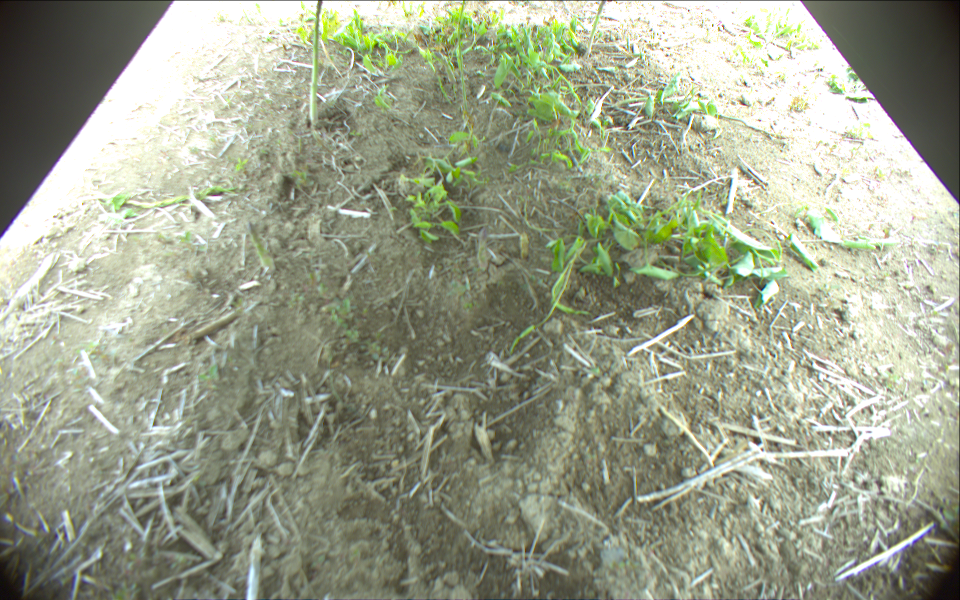aspa: (91, 188, 231, 209), (310, 1, 324, 126), (247, 223, 273, 274), (586, 1, 608, 55)
